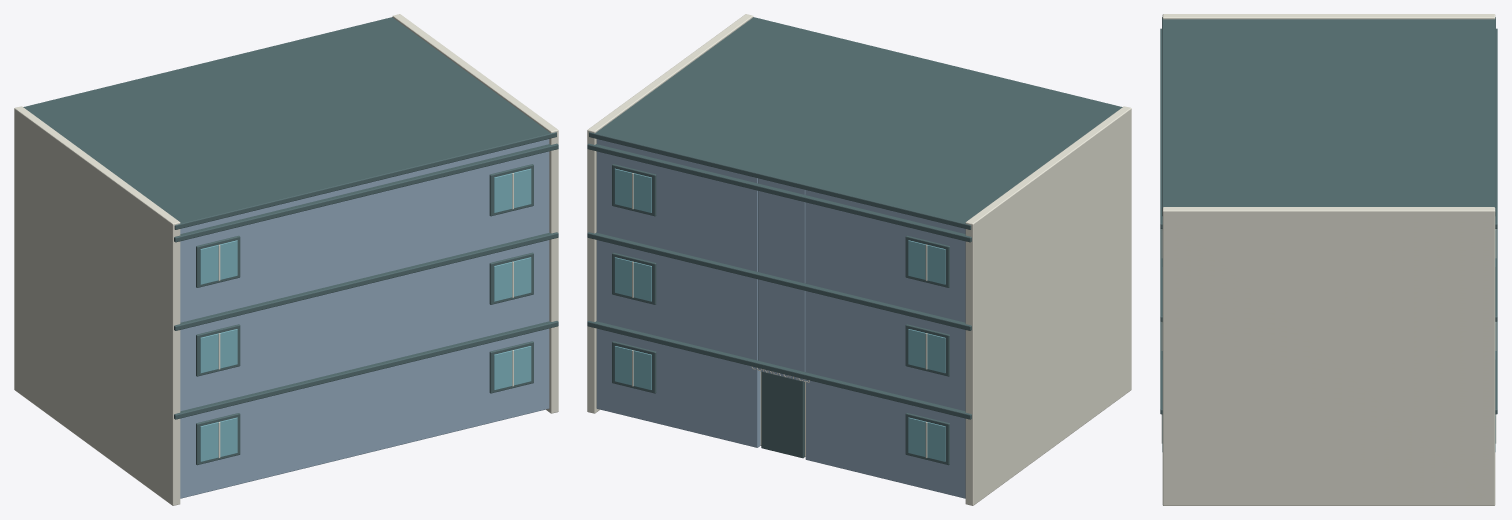
Rendered from district-offices.glb.
3 views of the same model, side by side, from view 1: azimuth 30°, elevation 25°; view 2: azimuth 150°, elevation 25°; view 3: azimuth 270°, elevation 25° (orthographic). The views are drawn at different scales.
Parts seen in each view (by area): view 1: shell-wall, roof-trim, shell-white, shell-trim, shell-glass; view 2: shell-wall, roof-trim, shell-white, shell-trim, shell-glass, door leaf; view 3: shell-white, roof-trim, shell-trim.
Part boxes in pixels (box(x1,y1,x2,y2)): shell-wall: box(180, 139, 549, 498); roof-trim: box(23, 17, 556, 229); shell-white: box(14, 14, 558, 505); shell-trim: box(174, 143, 558, 465); shell-glass: box(200, 168, 531, 461); shell-wall: box(596, 139, 965, 498); roof-trim: box(589, 17, 1122, 229); shell-white: box(587, 14, 1131, 505); shell-trim: box(587, 143, 971, 465); shell-glass: box(614, 168, 945, 461); door leaf: box(761, 371, 804, 458); shell-white: box(1161, 14, 1496, 505); roof-trim: box(1162, 17, 1495, 215); shell-trim: box(1160, 28, 1497, 414).
Size of the model in its own units: 14.6 by 10.2 by 10.56.
